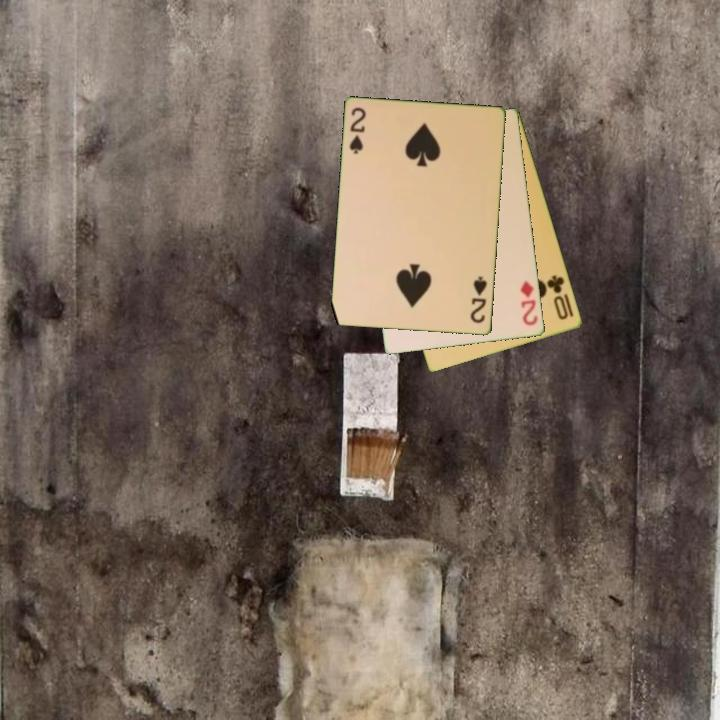10c: (544, 271, 571, 323)
2d: (517, 278, 541, 329)
2s: (467, 273, 490, 326), (346, 104, 369, 157)
